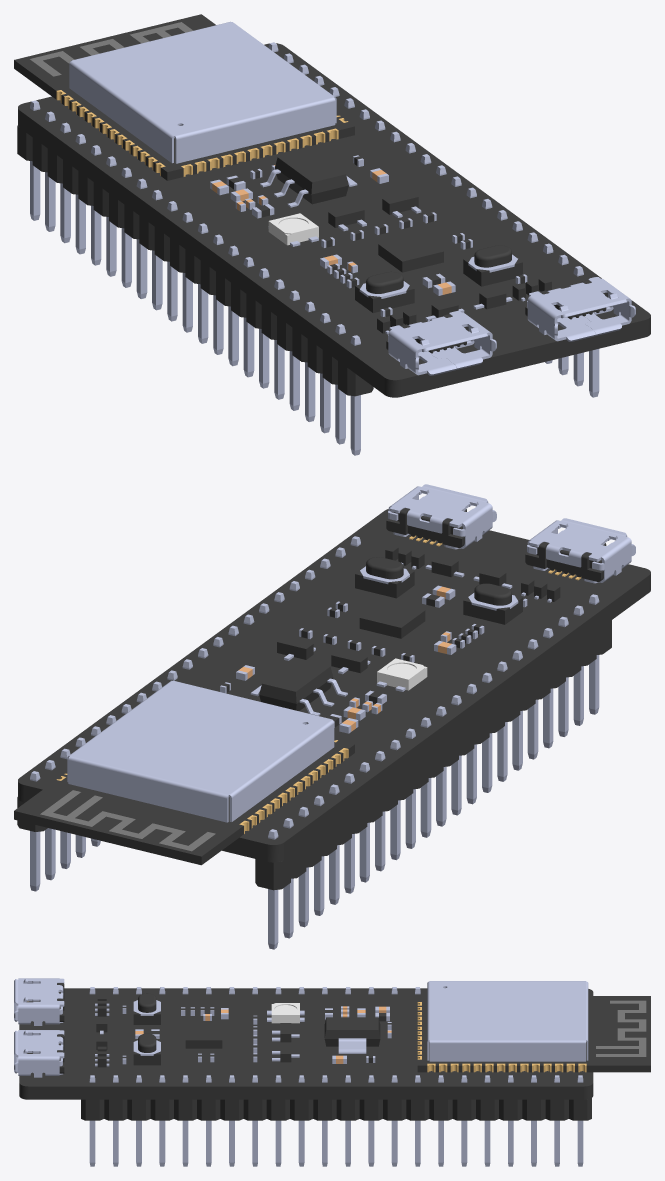
File: ESP32-S3-DEVKITC-1-N16R8V.obj
3 renders of one model, top to bottom at view 1: azimuth 30°, elevation 25°; view 2: azimuth 150°, elevation 25°; view 3: azimuth 270°, elevation 25°, orthographic. The views are drawn at different scales.
Parts seen in each view (by area): view 1: empty_4, empty_50, empty_2, empty_49, empty_243, empty_260, empty_101, empty_107, empty_265, empty_263, empty_51, empty_121 (+22 smaller); view 2: empty_4, empty_50, empty_2, empty_49, empty_260, empty_243, empty_101, empty_51, empty_107, empty_263, empty_265, empty_244 (+25 smaller); view 3: empty_4, empty_50, empty_3, empty_49, empty_243, empty_260, empty_101, empty_51, empty_107, empty_265, empty_263, empty_121 (+23 smaller).
Part boxes in pixels (x1=…): empty_4: x1=18, y1=43, x2=650, y2=397; empty_50: x1=69, y1=21, x2=336, y2=163; empty_2: x1=17, y1=125, x2=373, y2=396; empty_49: x1=14, y1=14, x2=354, y2=180; empty_243: x1=388, y1=310, x2=496, y2=375; empty_260: x1=527, y1=277, x2=635, y2=341; empty_101: x1=275, y1=149, x2=348, y2=204; empty_107: x1=378, y1=234, x2=443, y2=272; empty_265: x1=463, y1=245, x2=522, y2=286; empty_263: x1=355, y1=271, x2=414, y2=312; empty_51: x1=30, y1=22, x2=193, y2=76; empty_121: x1=268, y1=213, x2=318, y2=245; empty_4: x1=18, y1=509, x2=650, y2=862; empty_50: x1=67, y1=680, x2=334, y2=822; empty_2: x1=255, y1=620, x2=611, y2=890; empty_49: x1=14, y1=740, x2=354, y2=865; empty_260: x1=388, y1=484, x2=496, y2=549; empty_243: x1=527, y1=518, x2=635, y2=583; empty_101: x1=259, y1=658, x2=333, y2=710; empty_51: x1=40, y1=790, x2=215, y2=851; empty_107: x1=359, y1=600, x2=425, y2=638; empty_263: x1=463, y1=583, x2=522, y2=624; empty_265: x1=355, y1=557, x2=414, y2=598; empty_244: x1=525, y1=542, x2=606, y2=581; empty_4: x1=19, y1=988, x2=593, y2=1099; empty_50: x1=427, y1=981, x2=588, y2=1061; empty_3: x1=81, y1=1098, x2=591, y2=1120; empty_49: x1=417, y1=996, x2=650, y2=1072; empty_243: x1=14, y1=978, x2=64, y2=1025; empty_260: x1=14, y1=1030, x2=64, y2=1077; empty_101: x1=324, y1=1017, x2=380, y2=1046; empty_51: x1=596, y1=1000, x2=646, y2=1056; empty_107: x1=185, y1=1025, x2=222, y2=1048; empty_265: x1=133, y1=1033, x2=160, y2=1065; empty_263: x1=133, y1=993, x2=160, y2=1024; empty_121: x1=271, y1=1003, x2=299, y2=1023.
Size of the model in its own units: 0.0254 by 0.0134 by 0.0696.
